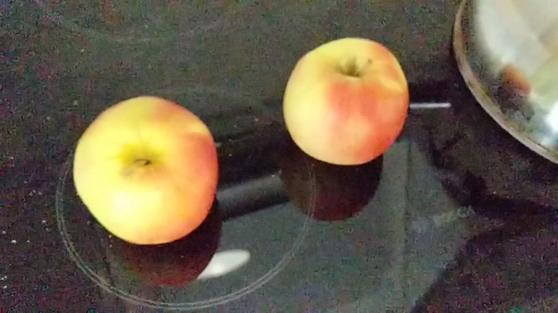apple: (78, 95, 220, 245), (282, 34, 404, 166)
